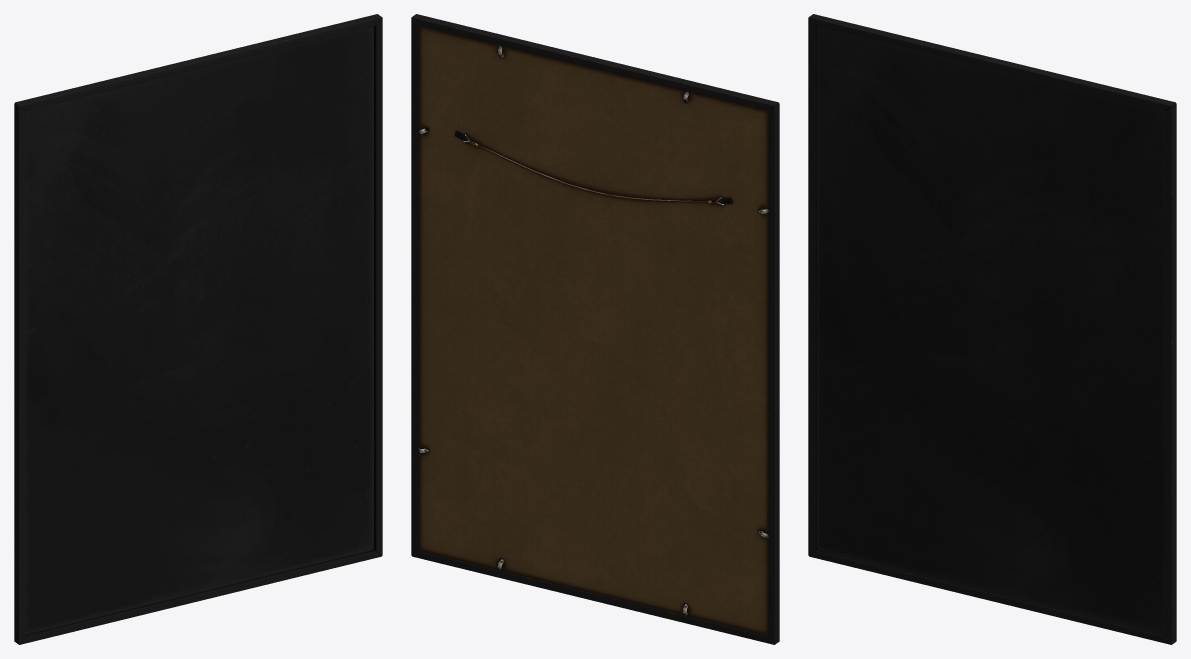
File: hanging_picture_frame_01_lod2.glb
3 renders of one model, left to right at view 1: azimuth 30°, elevation 25°; view 2: azimuth 150°, elevation 25°; view 3: azimuth 330°, elevation 25°, orthographic.
Visible parts, largest first — view 1: hanging_picture_frame_01; view 2: hanging_picture_frame_01; view 3: hanging_picture_frame_01.
Part boxes in pixels (box(x1,y1,x2,y2)): hanging_picture_frame_01: box(14, 14, 382, 644); hanging_picture_frame_01: box(411, 14, 779, 644); hanging_picture_frame_01: box(808, 14, 1176, 644).
Size of the model in its own units: 0.594 by 0.841 by 0.0157.
Materials: 3 (3 with a texture image).
